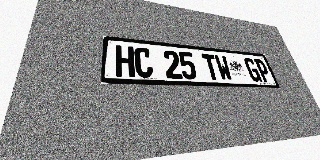2: (163, 50, 183, 79)
5: (178, 51, 198, 80)
C: (134, 47, 154, 78)
G: (243, 58, 262, 82)
H: (116, 45, 135, 77)
P: (253, 59, 273, 82)
T: (201, 53, 221, 80)
W: (214, 55, 234, 81)
